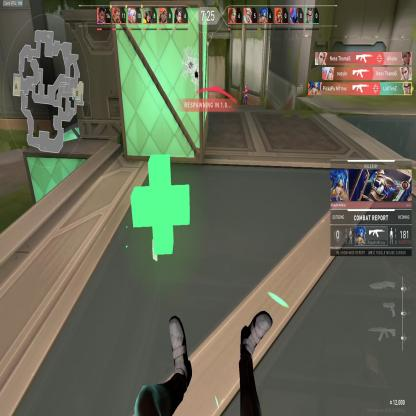enemy: (241, 81, 249, 106)
